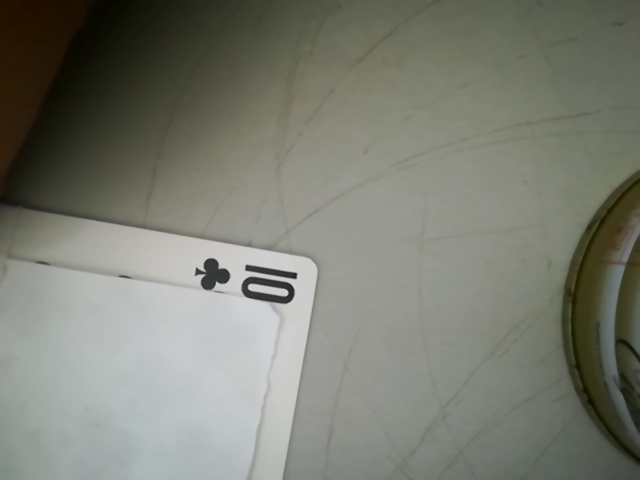mh 10: (191, 252, 317, 313)
